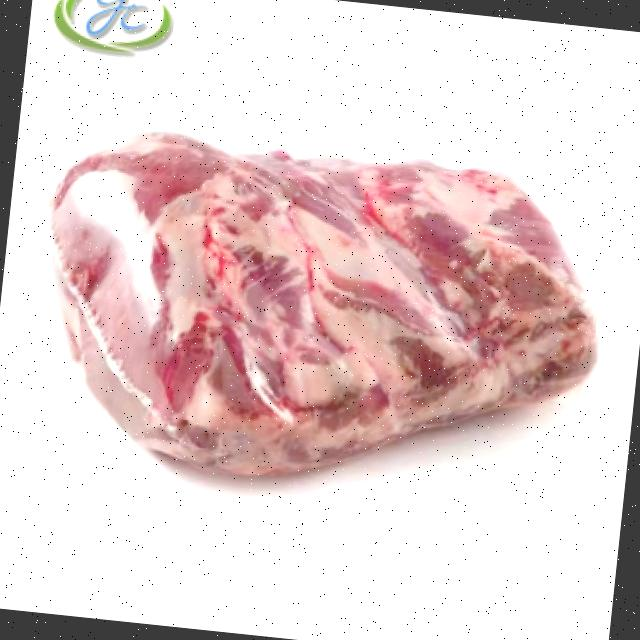meat: (0, 71, 640, 532)
